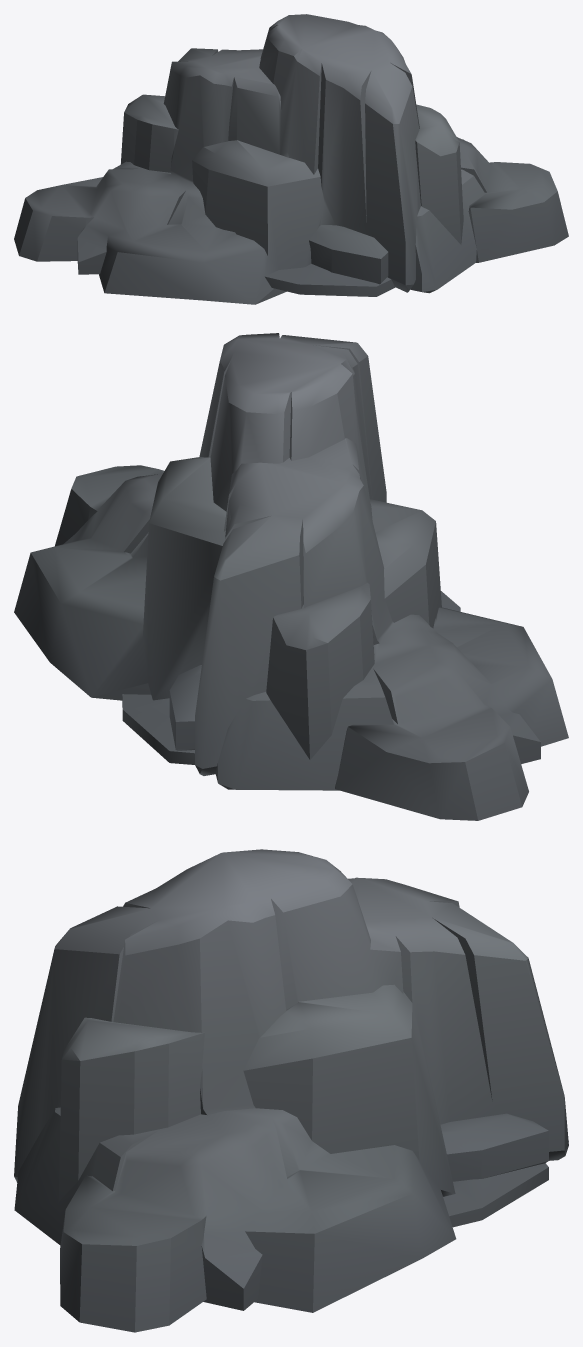
The model's file is Rock_6.fbx.
3 renders of one model, top to bottom at view 1: azimuth 30°, elevation 25°; view 2: azimuth 150°, elevation 25°; view 3: azimuth 270°, elevation 25°, orthographic. The views are drawn at different scales.
Parts seen in each view (by area): view 1: Rock_6; view 2: Rock_6; view 3: Rock_6.
Boxes of the visible parts, <box> form: Rock_6: <box>14,14,568,304</box>; Rock_6: <box>14,333,568,820</box>; Rock_6: <box>14,849,568,1332</box>.
Bounding box in the file's own units: 1030 × 484 × 752.
